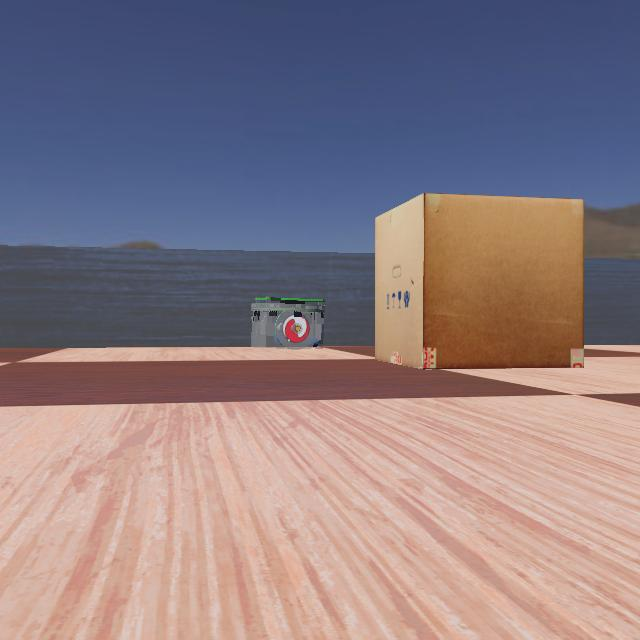cardboard-box: (372, 192, 596, 370)
